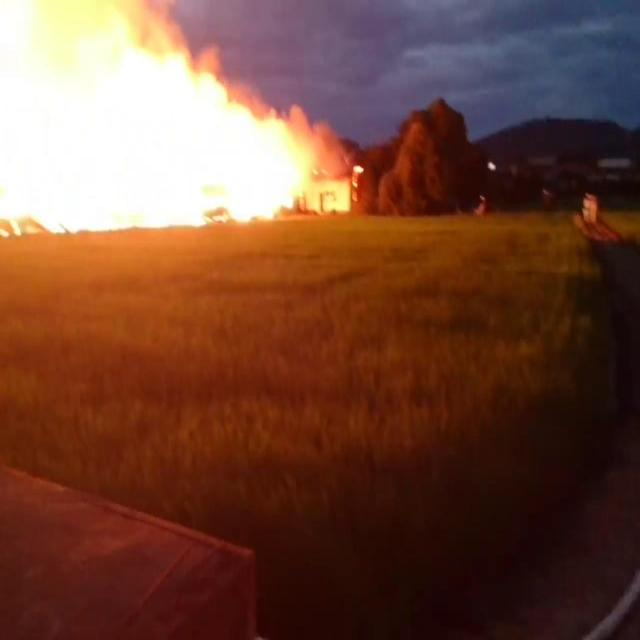Fire: (5, 7, 339, 246)
